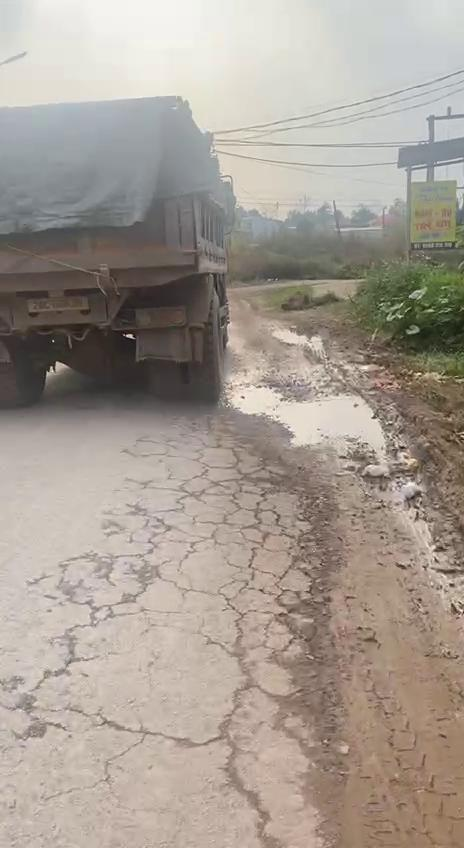pothole: (218, 380, 380, 455)
